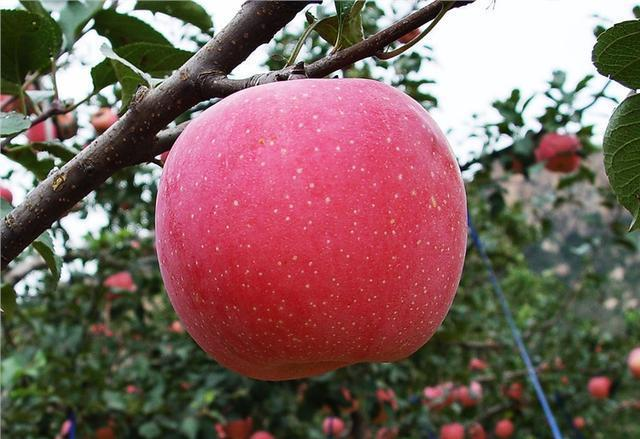apple: (155, 83, 468, 379)
